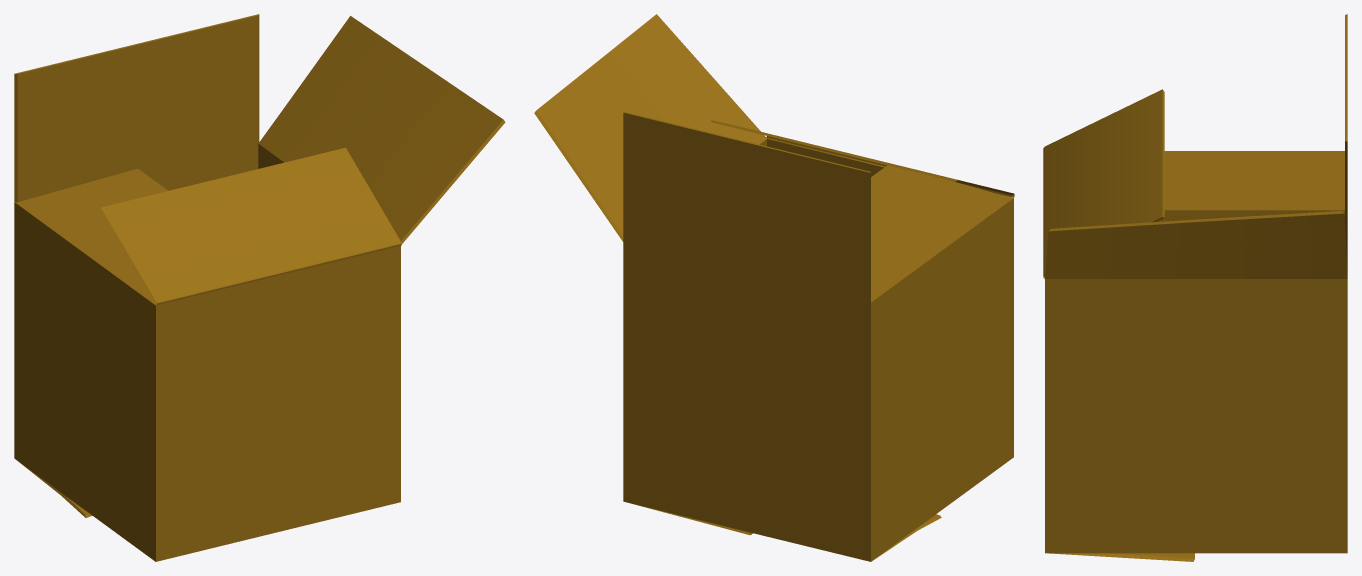
3 views of the same model, side by side, from view 1: azimuth 30°, elevation 25°; view 2: azimuth 150°, elevation 25°; view 3: azimuth 270°, elevation 25° (orthographic). The views are drawn at different scales.
Parts seen in each view (by area): view 1: Box001; view 2: Box001; view 3: Box001.
Part boxes in pixels (x1,y1,x2,y2): Box001: (14,14,505,561); Box001: (534,14,1014,561); Box001: (1043,14,1347,561).
Size of the model in its own units: 1.87 by 2 by 1.31.
